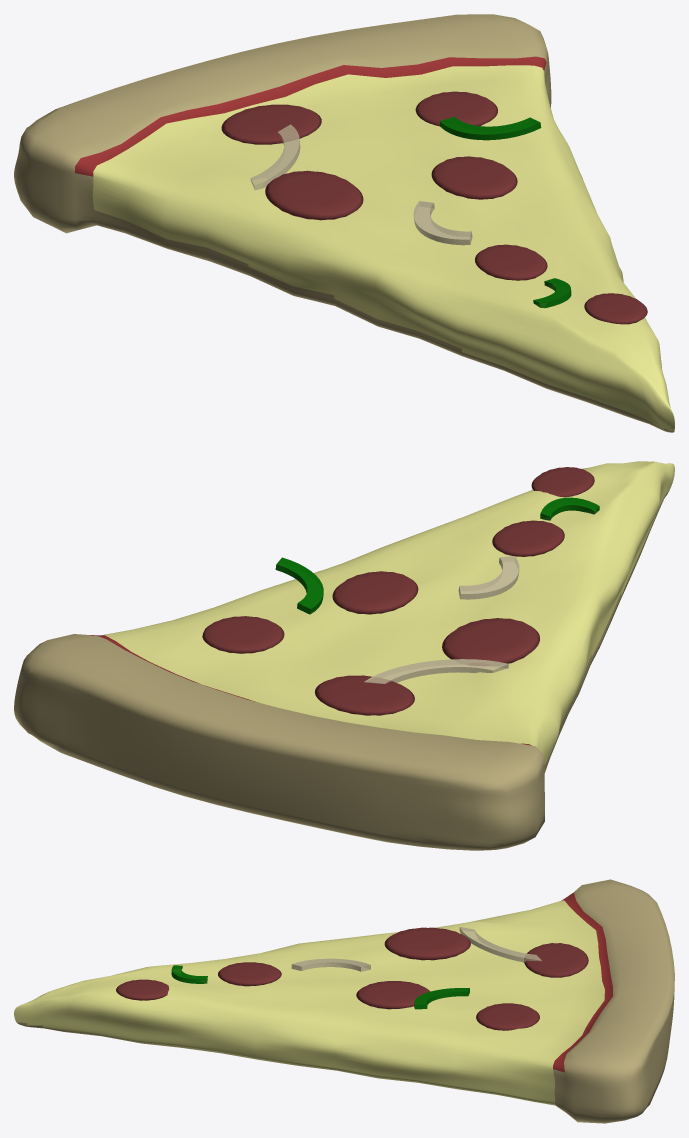
Rendered from PizzaGeo 1.fbx.
The picture shows the model from 3 angles, top to bottom: view 1: azimuth 30°, elevation 25°; view 2: azimuth 150°, elevation 25°; view 3: azimuth 270°, elevation 25°; orthographic projection. The views are drawn at different scales.
Parts seen in each view (by area): view 1: pCylinder7; view 2: pCylinder7; view 3: pCylinder7.
Part boxes in pixels (x1=…): pCylinder7: x1=14, y1=14, x2=674, y2=432; pCylinder7: x1=14, y1=461, x2=674, y2=850; pCylinder7: x1=14, y1=879, x2=674, y2=1123.
Bounding box in the file's own units: 79.28 × 15.94 × 116.
